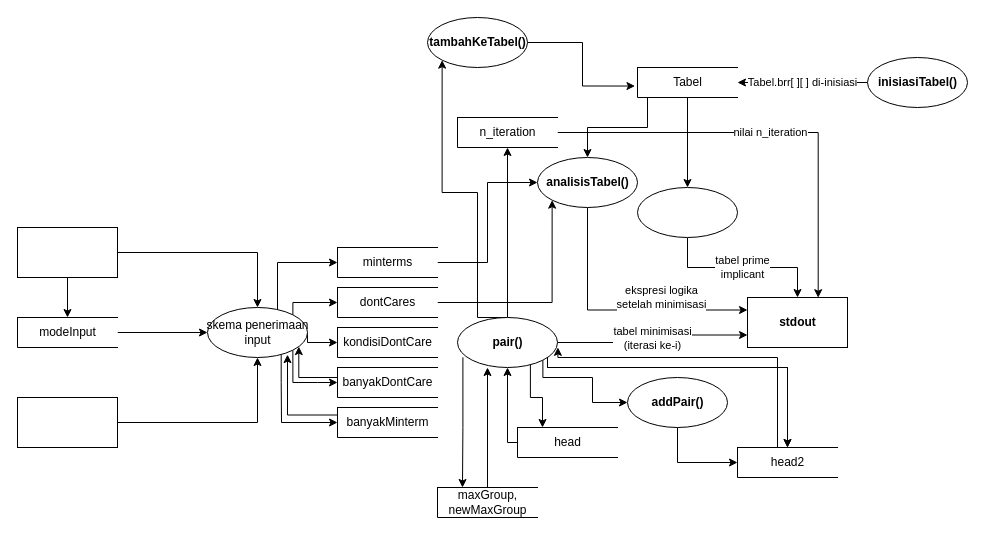
This 985x535 diagram has some shape labels left out. Here are the shapes that lost their labels. From the top down, the centre of each, then its label:
At point (687, 212): "tampilkanTabel()".
At point (67, 252): "stdin".
At point (67, 422): "input file".
